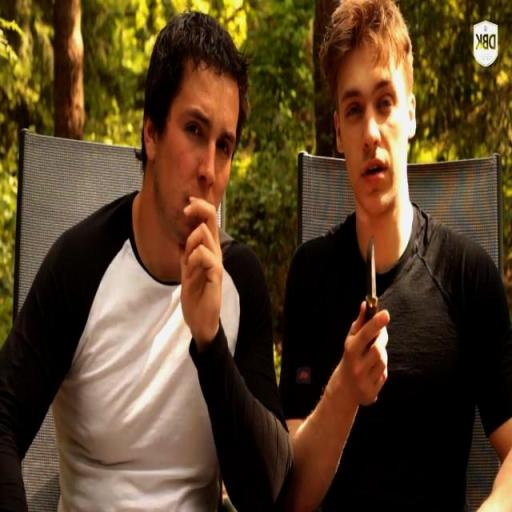knife: (350, 225, 396, 370)
